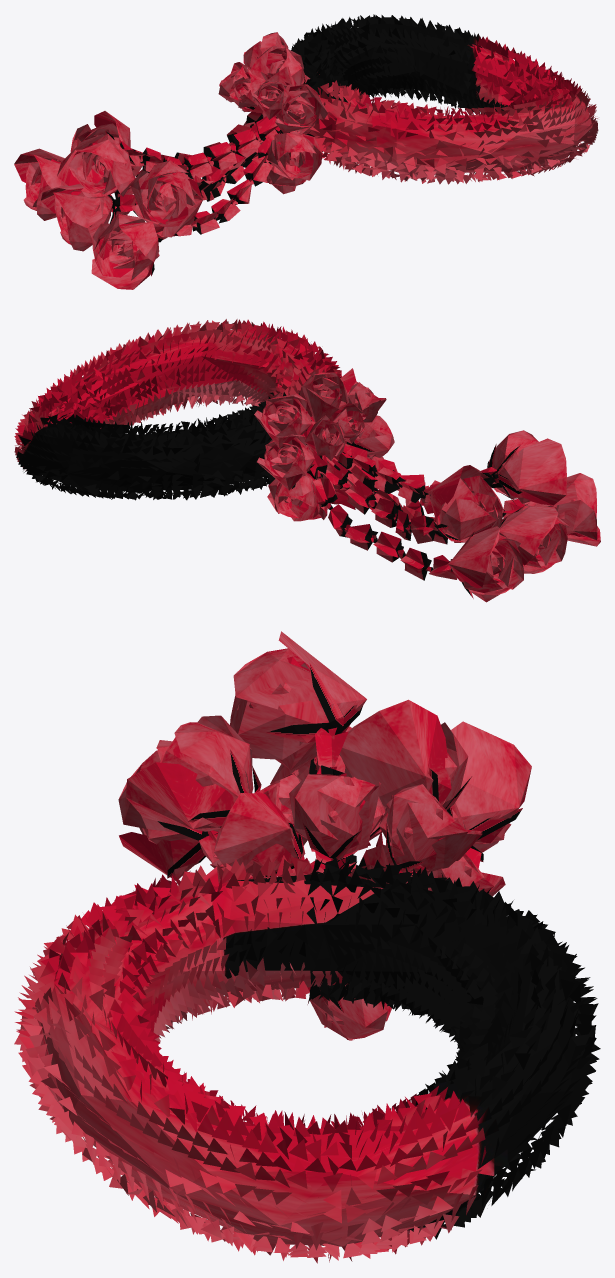
The model's file is garland.fbx.
The picture shows the model from 3 angles, top to bottom: view 1: azimuth 30°, elevation 25°; view 2: azimuth 150°, elevation 25°; view 3: azimuth 270°, elevation 25°; orthographic projection. The views are drawn at different scales.
Visible parts, largest first — view 1: garland; view 2: garland; view 3: garland.
Part boxes in pixels (x1,y1,x2,y2): garland: (14, 14, 598, 289); garland: (14, 319, 600, 602); garland: (14, 631, 600, 1263).
Bounding box in the file's own units: 0.45 × 0.123 × 0.2478.
